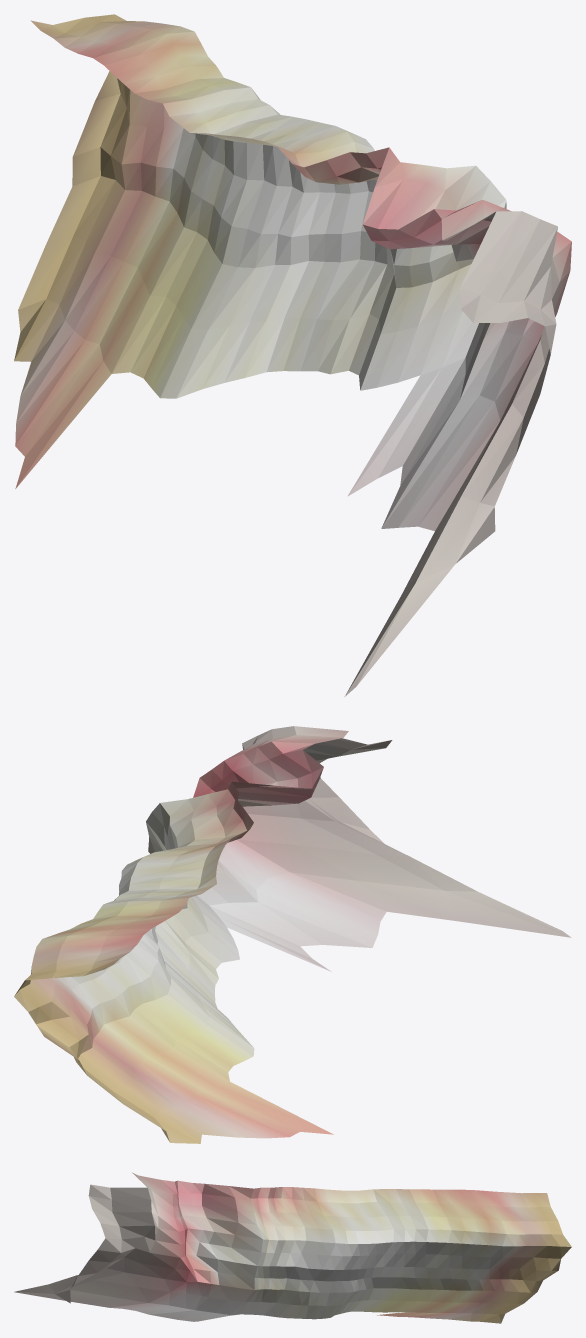
Rendered from entity-signal-light-3.glb.
The picture shows the model from 3 angles, top to bottom: view 1: azimuth 30°, elevation 25°; view 2: azimuth 150°, elevation 25°; view 3: azimuth 270°, elevation 25°; orthographic projection. The views are drawn at different scales.
Visible parts, largest first — view 1: geometry_0; view 2: geometry_0; view 3: geometry_0.
Boxes of the visible parts, x1,y1,x2,y2 form: geometry_0: (14, 14, 571, 696); geometry_0: (14, 726, 571, 1143); geometry_0: (14, 1172, 571, 1323).
Size of the model in its own units: 0.1553 by 0.1406 by 0.3583.
